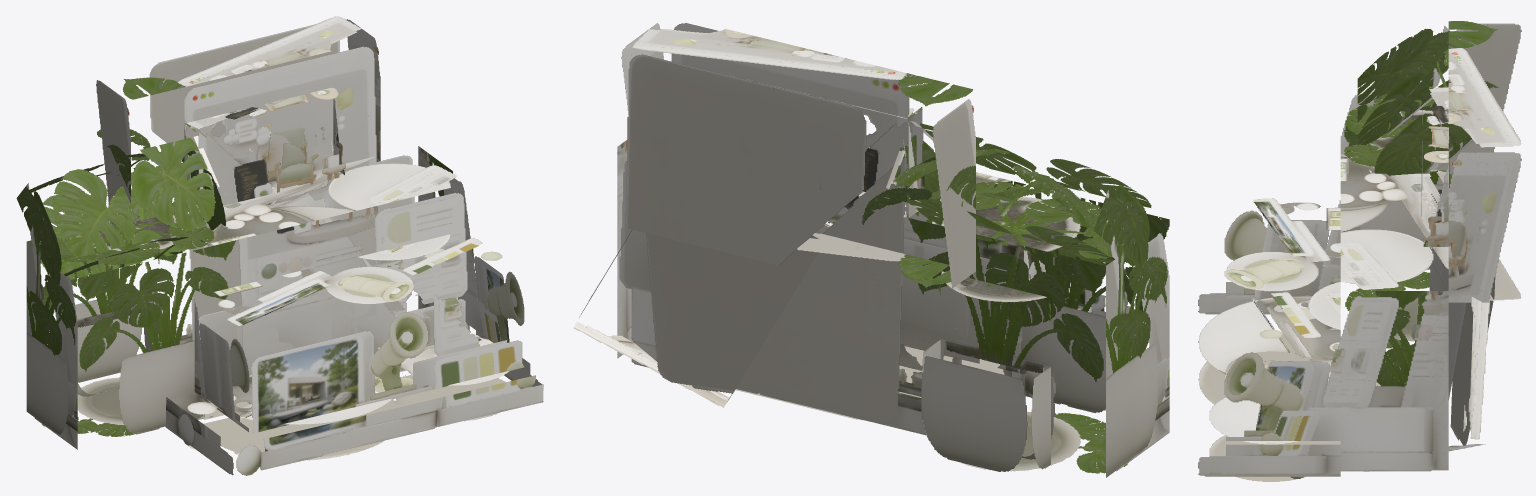
The model's file is decor-1024.glb.
3 views of the same model, side by side, from view 1: azimuth 30°, elevation 25°; view 2: azimuth 150°, elevation 25°; view 3: azimuth 270°, elevation 25° (orthographic). The views are drawn at different scales.
Parts seen in each view (by area): view 1: box_impostor; view 2: box_impostor; view 3: box_impostor.
Part boxes in pixels (x1,y1,x2,y2): box_impostor: (16, 16, 543, 475); box_impostor: (573, 23, 1169, 477); box_impostor: (1198, 21, 1521, 481).
Bounding box in the file's own units: 2.6 × 1.86 × 1.67.
1 material, 1 textured.
